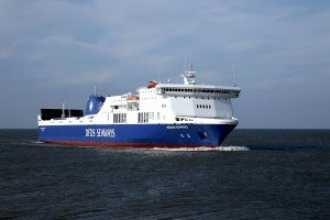Cargoship: (30, 69, 241, 147)
